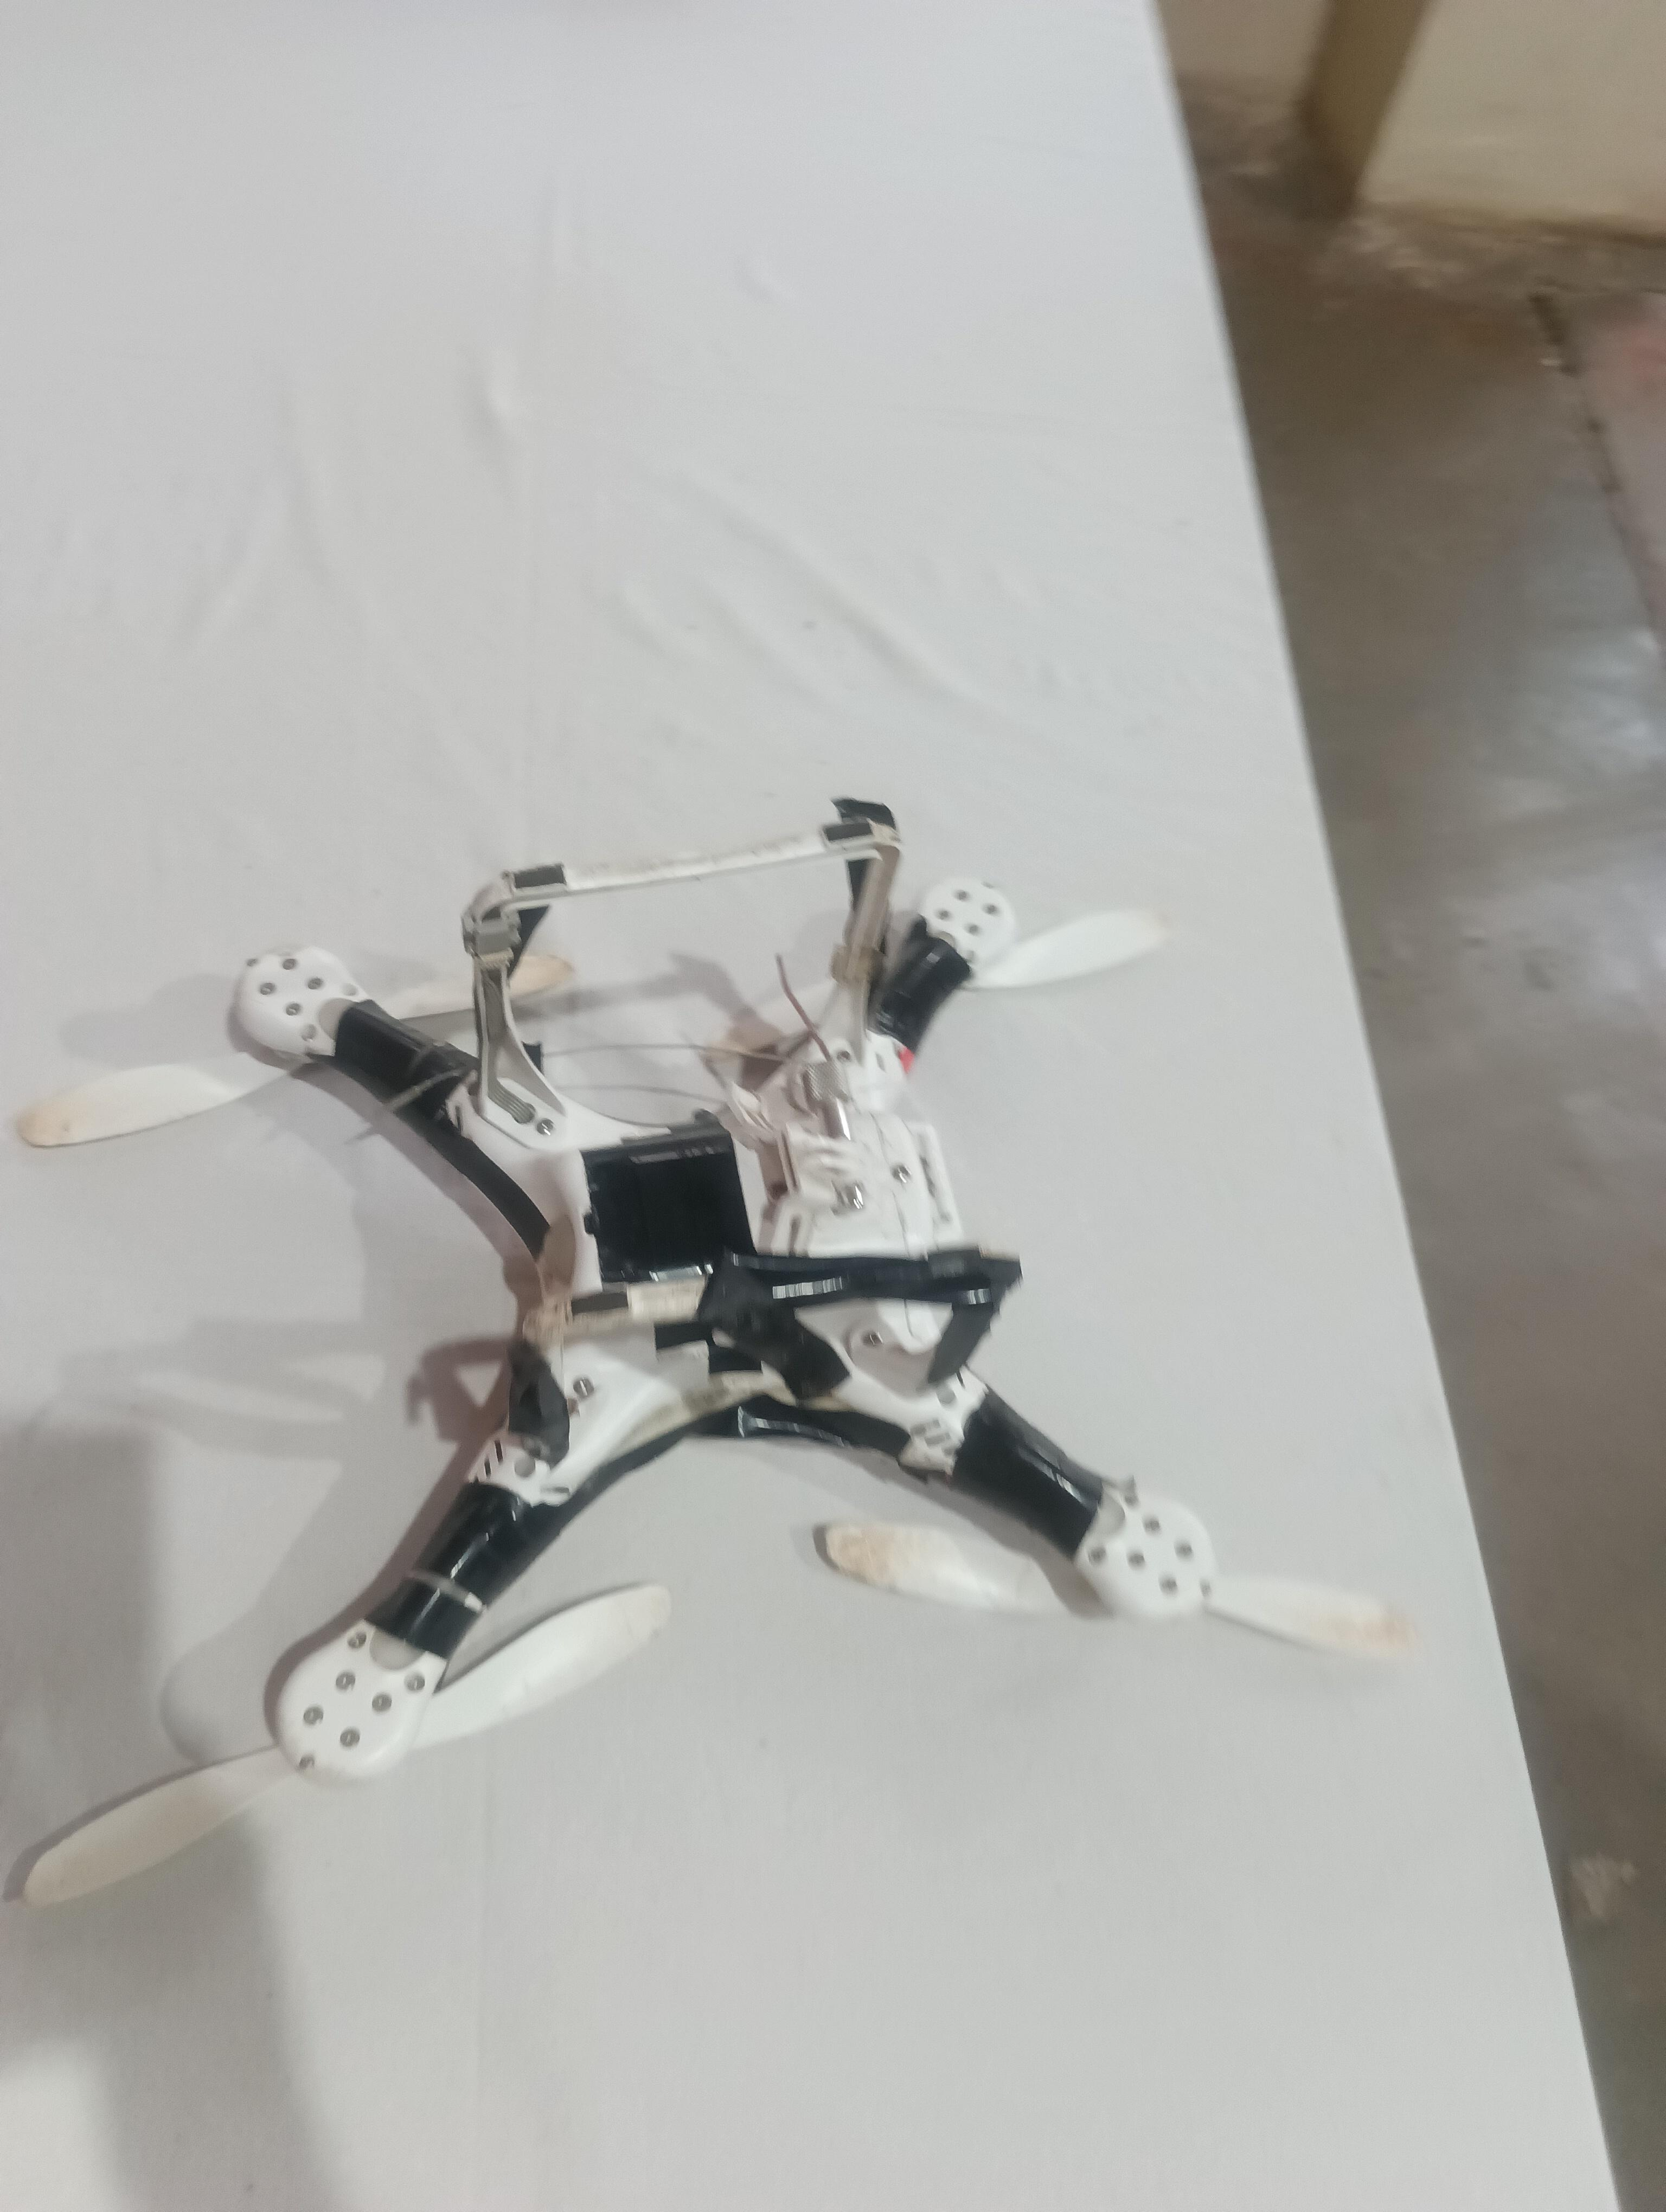drone: (0, 694, 1472, 1958)
